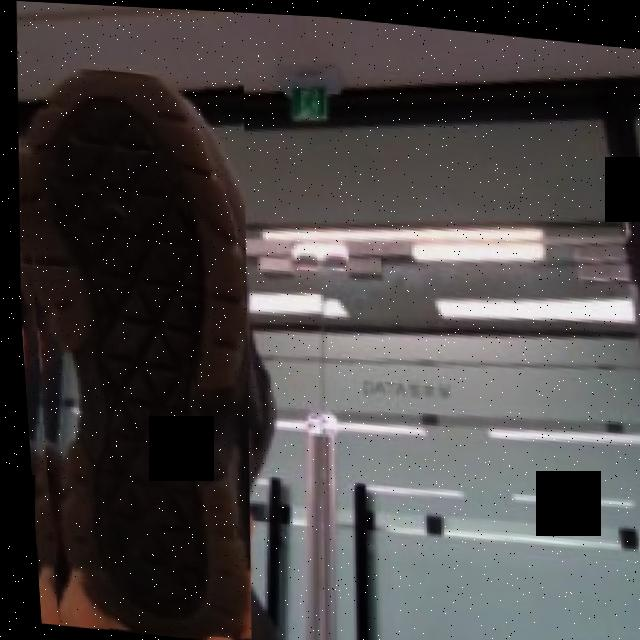shoe: (3, 60, 272, 640)
